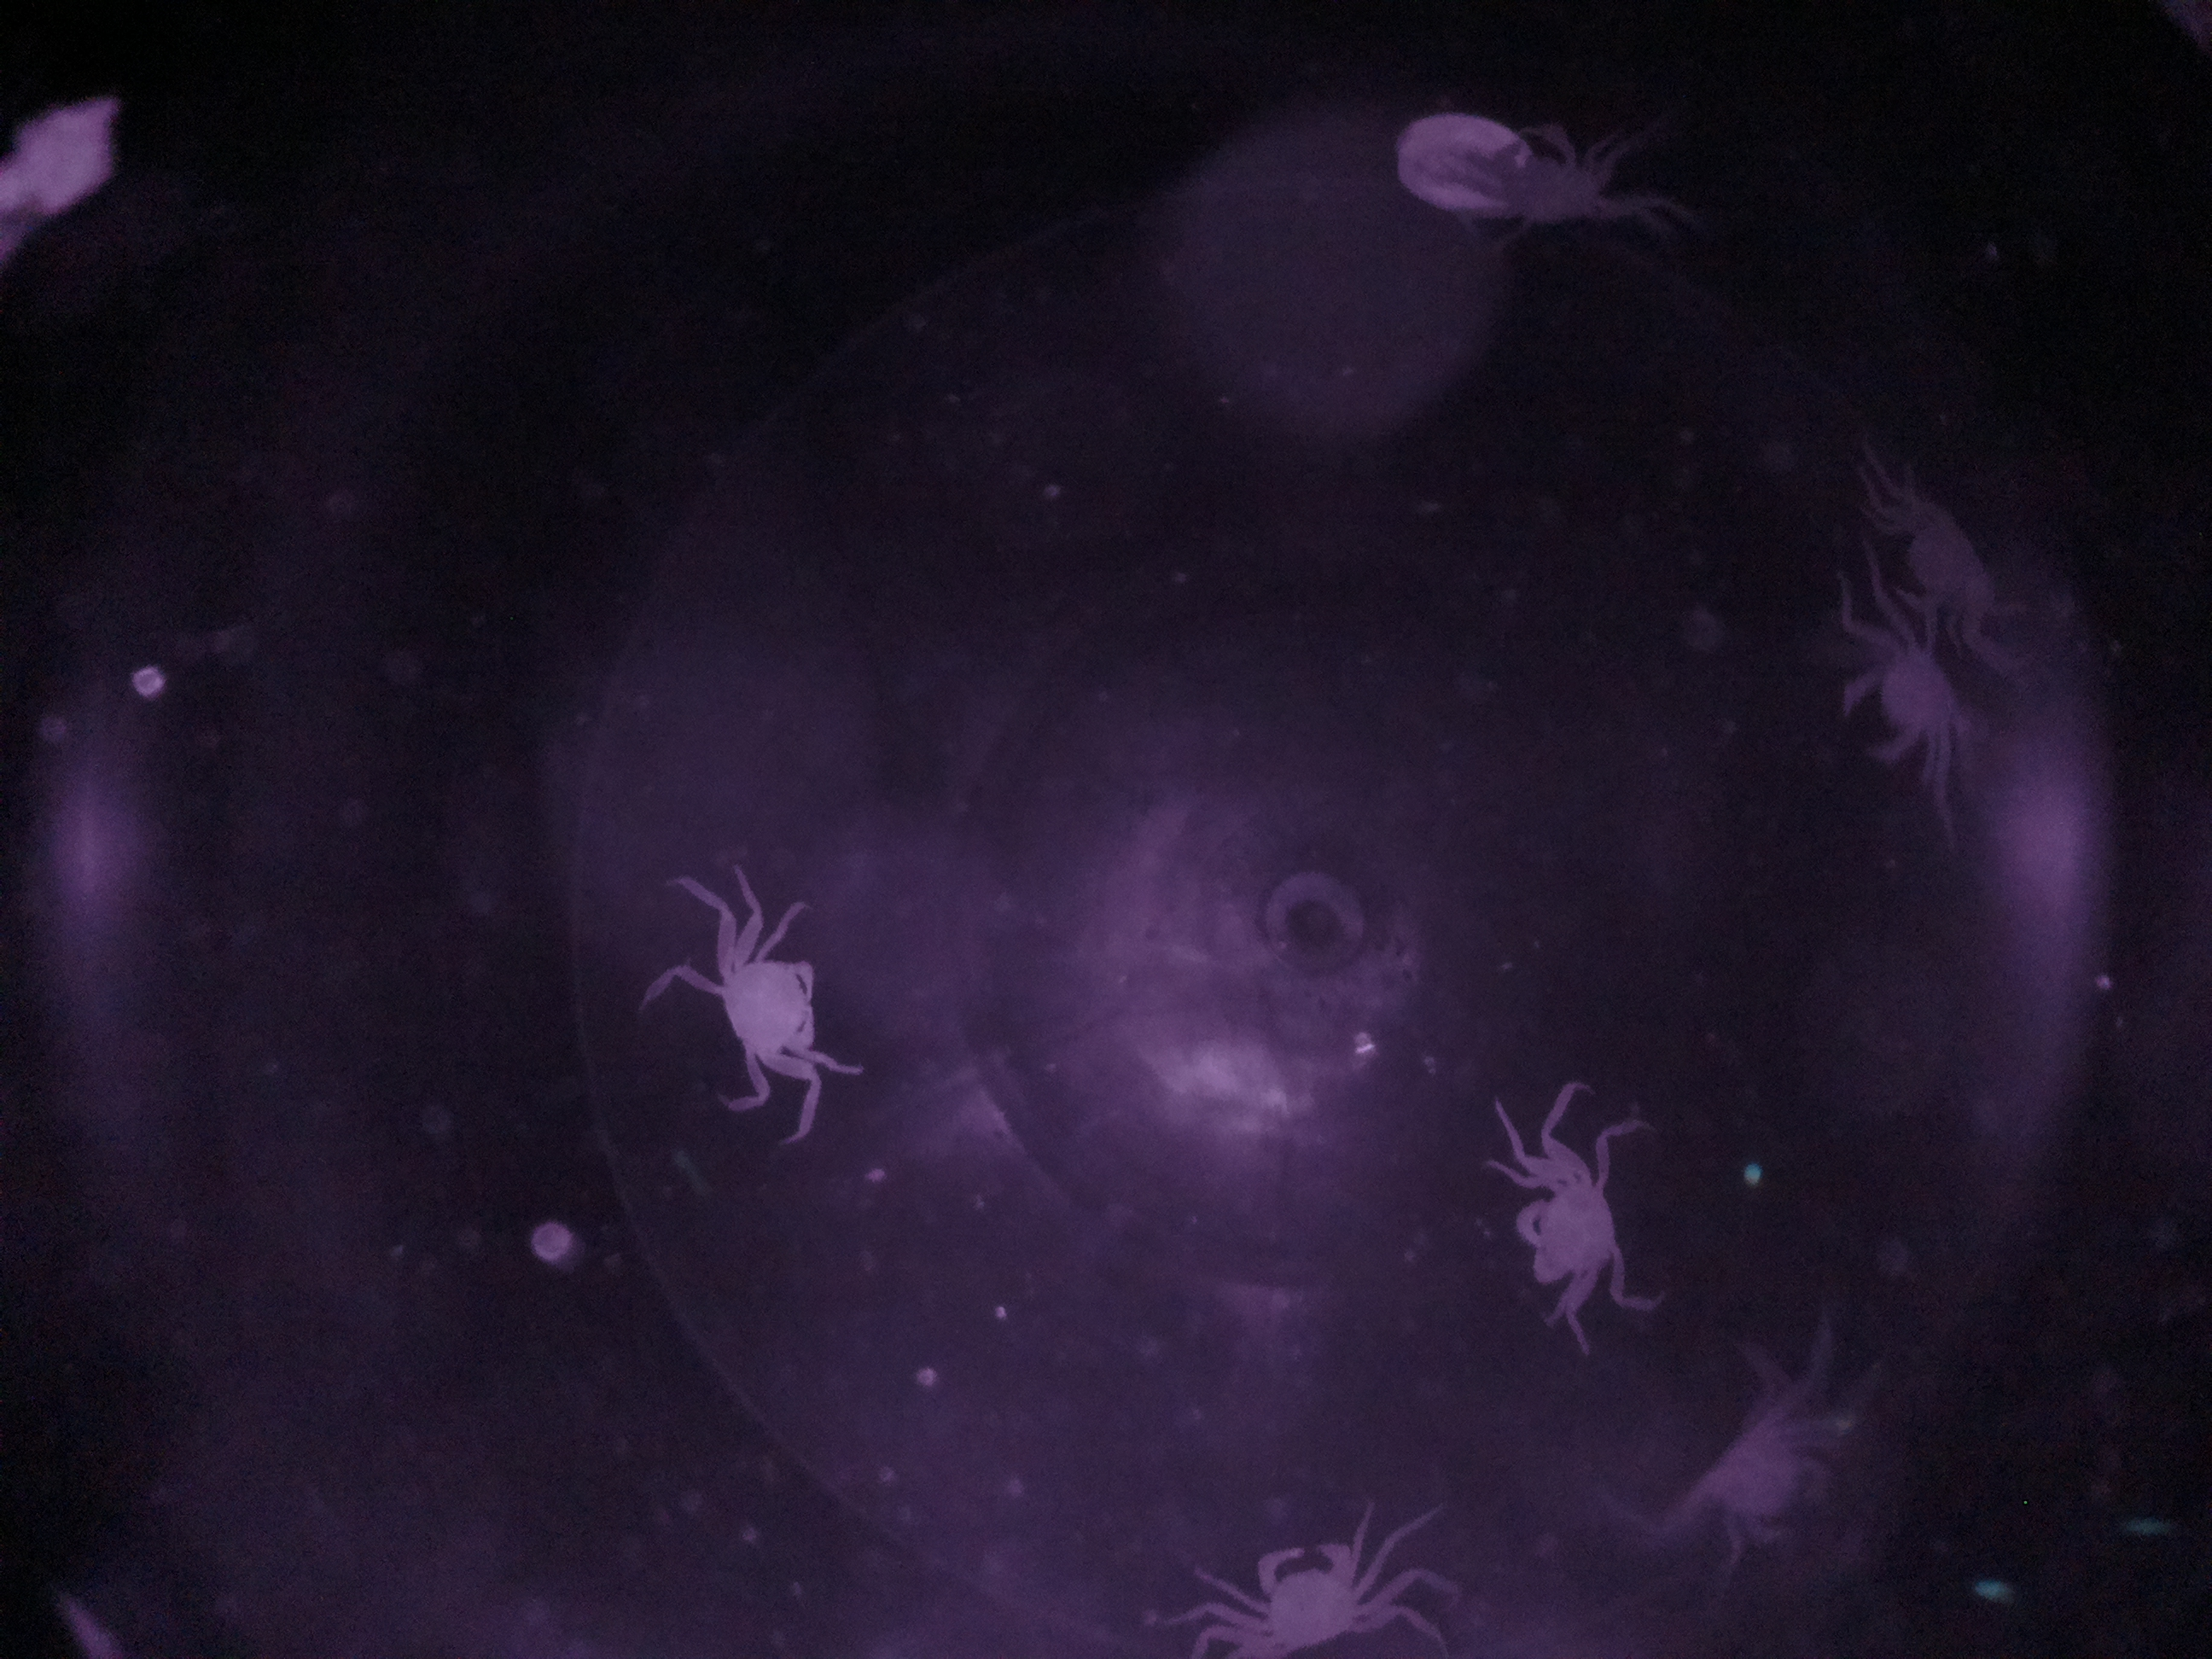Crab: (686, 918, 850, 1112), (1498, 1140, 1648, 1326), (1217, 1537, 1411, 1659)
